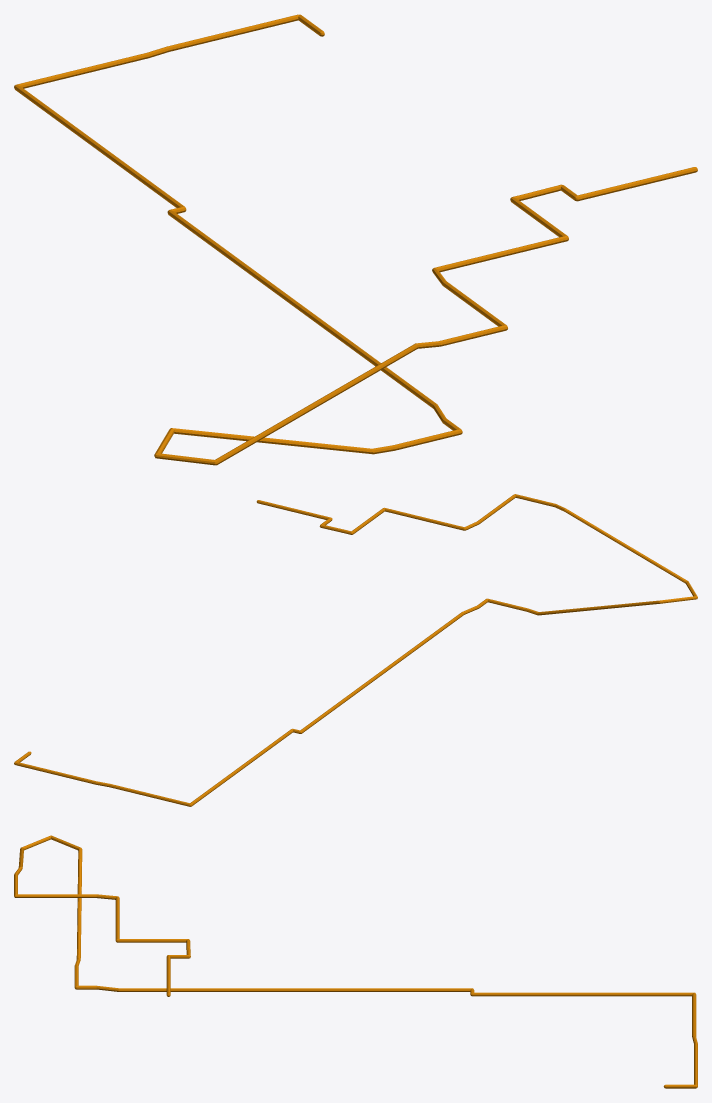
The picture shows the model from 3 angles, top to bottom: view 1: azimuth 30°, elevation 25°; view 2: azimuth 150°, elevation 25°; view 3: azimuth 270°, elevation 25°; orthographic projection. The views are drawn at different scales.
Bounding box in the file's own units: 2406 × 520 × 3390.
